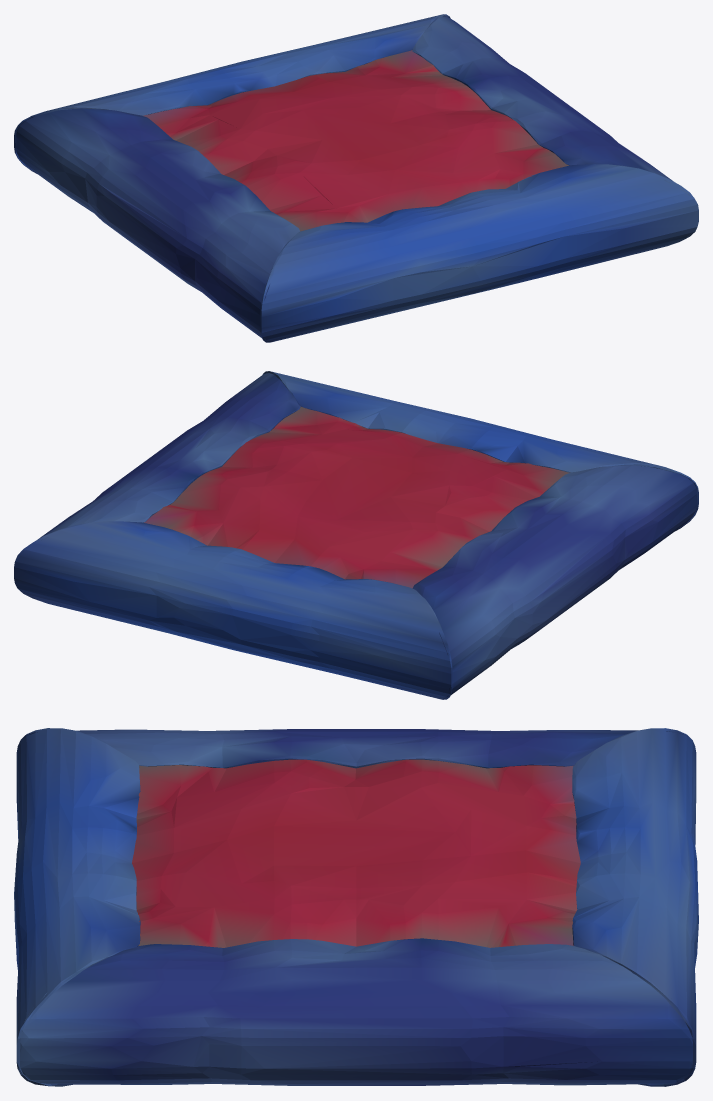
File: unhyun_floor_cushion_6b0209cc.glb
The picture shows the model from 3 angles, top to bottom: view 1: azimuth 30°, elevation 25°; view 2: azimuth 150°, elevation 25°; view 3: azimuth 270°, elevation 25°; orthographic projection. The views are drawn at different scales.
Parts seen in each view (by area): view 1: SM_FloorCusion_M_FloorCusion_0; view 2: SM_FloorCusion_M_FloorCusion_0; view 3: SM_FloorCusion_M_FloorCusion_0.
Boxes of the visible parts, x1,y1,x2,y2 form: SM_FloorCusion_M_FloorCusion_0: [14, 14, 698, 342]; SM_FloorCusion_M_FloorCusion_0: [14, 371, 698, 699]; SM_FloorCusion_M_FloorCusion_0: [14, 728, 698, 1086].
Size of the model in its own units: 0.5885 by 0.1273 by 0.5816.
